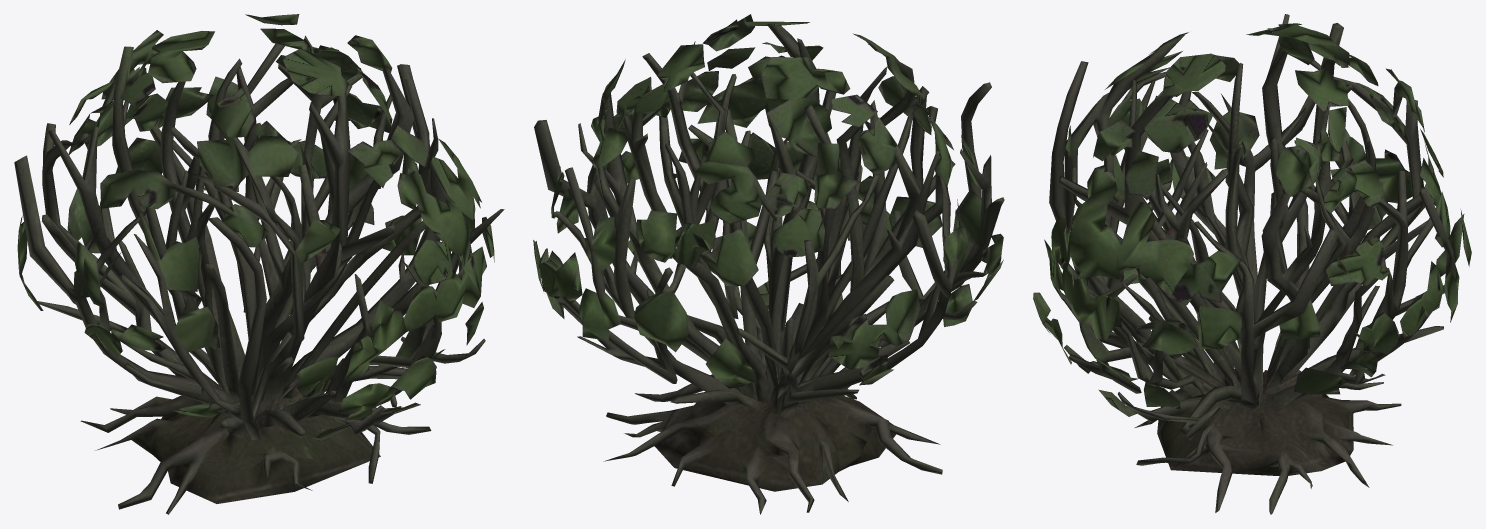
Rendered from bush_shrub.glb.
3 renders of one model, left to right at view 1: azimuth 30°, elevation 25°; view 2: azimuth 150°, elevation 25°; view 3: azimuth 270°, elevation 25°, orthographic. The views are drawn at different scales.
Parts seen in each view (by area): view 1: Mesh_0; view 2: Mesh_0; view 3: Mesh_0.
Part boxes in pixels (x1,y1,x2,y2): Mesh_0: (14, 14, 504, 514); Mesh_0: (533, 14, 1004, 514); Mesh_0: (1033, 14, 1471, 514).
Bounding box in the file's own units: 1.9 × 1.9 × 1.9.
Materials: 1 (1 with a texture image).
